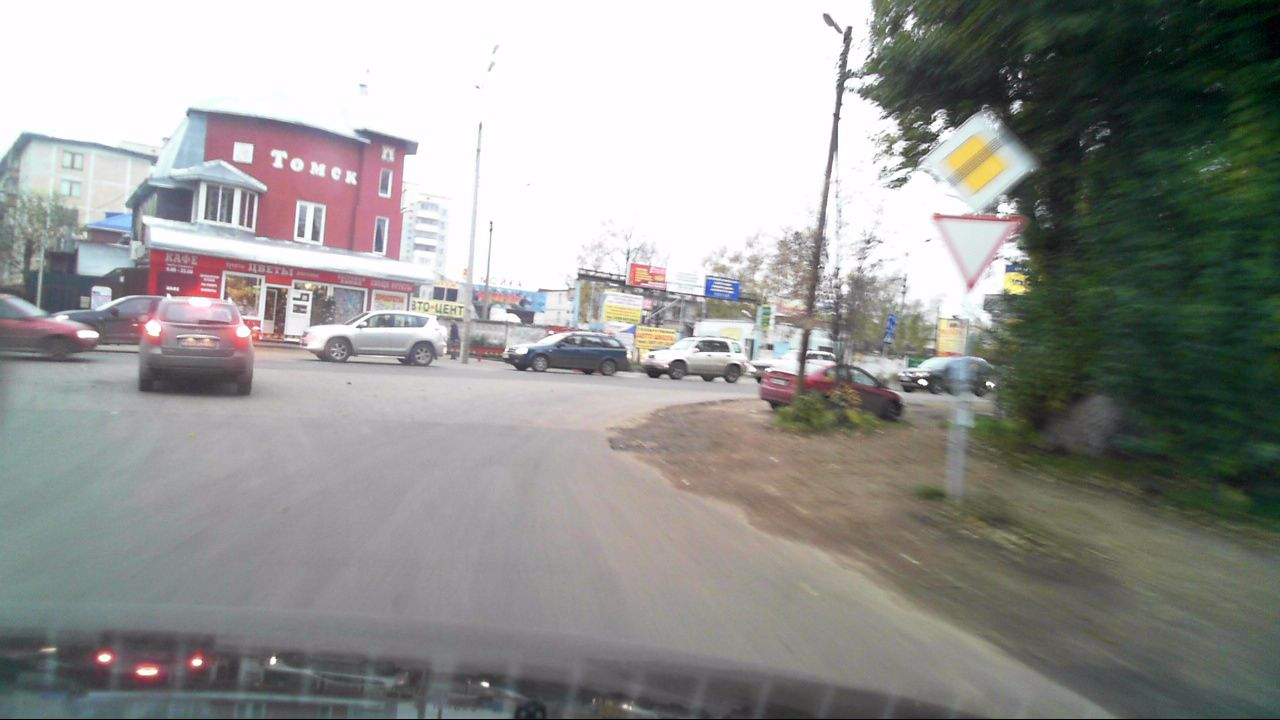main road: (927, 112, 1035, 212)
